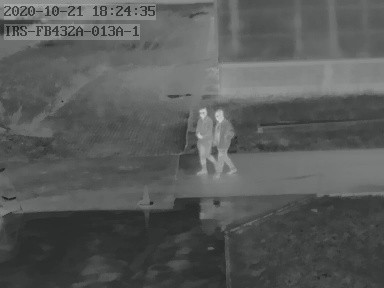person: (215, 108, 236, 175), (196, 107, 216, 174)
